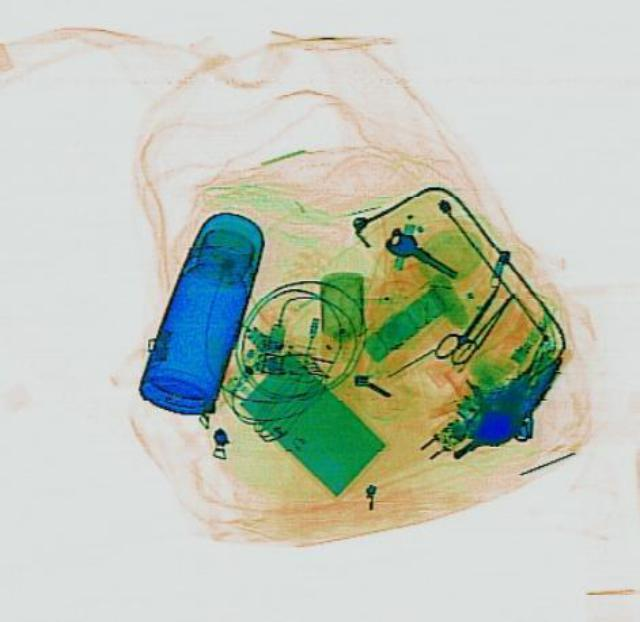Scissors: (426, 277, 514, 369)
